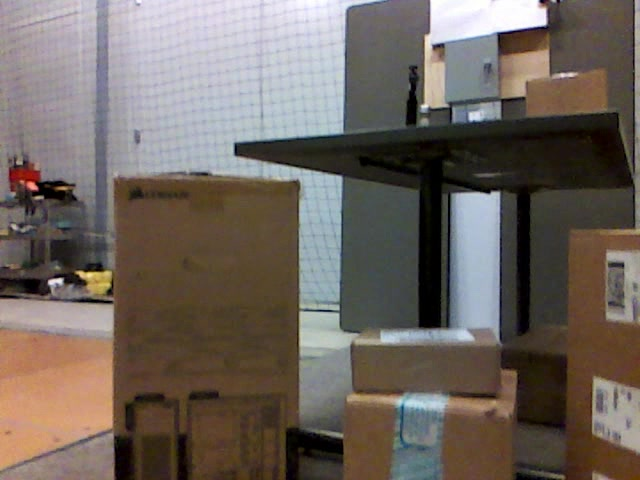box: (113, 174, 300, 480), (346, 372, 519, 480), (568, 228, 640, 477), (350, 327, 502, 394), (499, 326, 569, 425), (526, 69, 609, 113)
